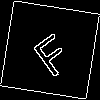F: (25, 25, 76, 79)
